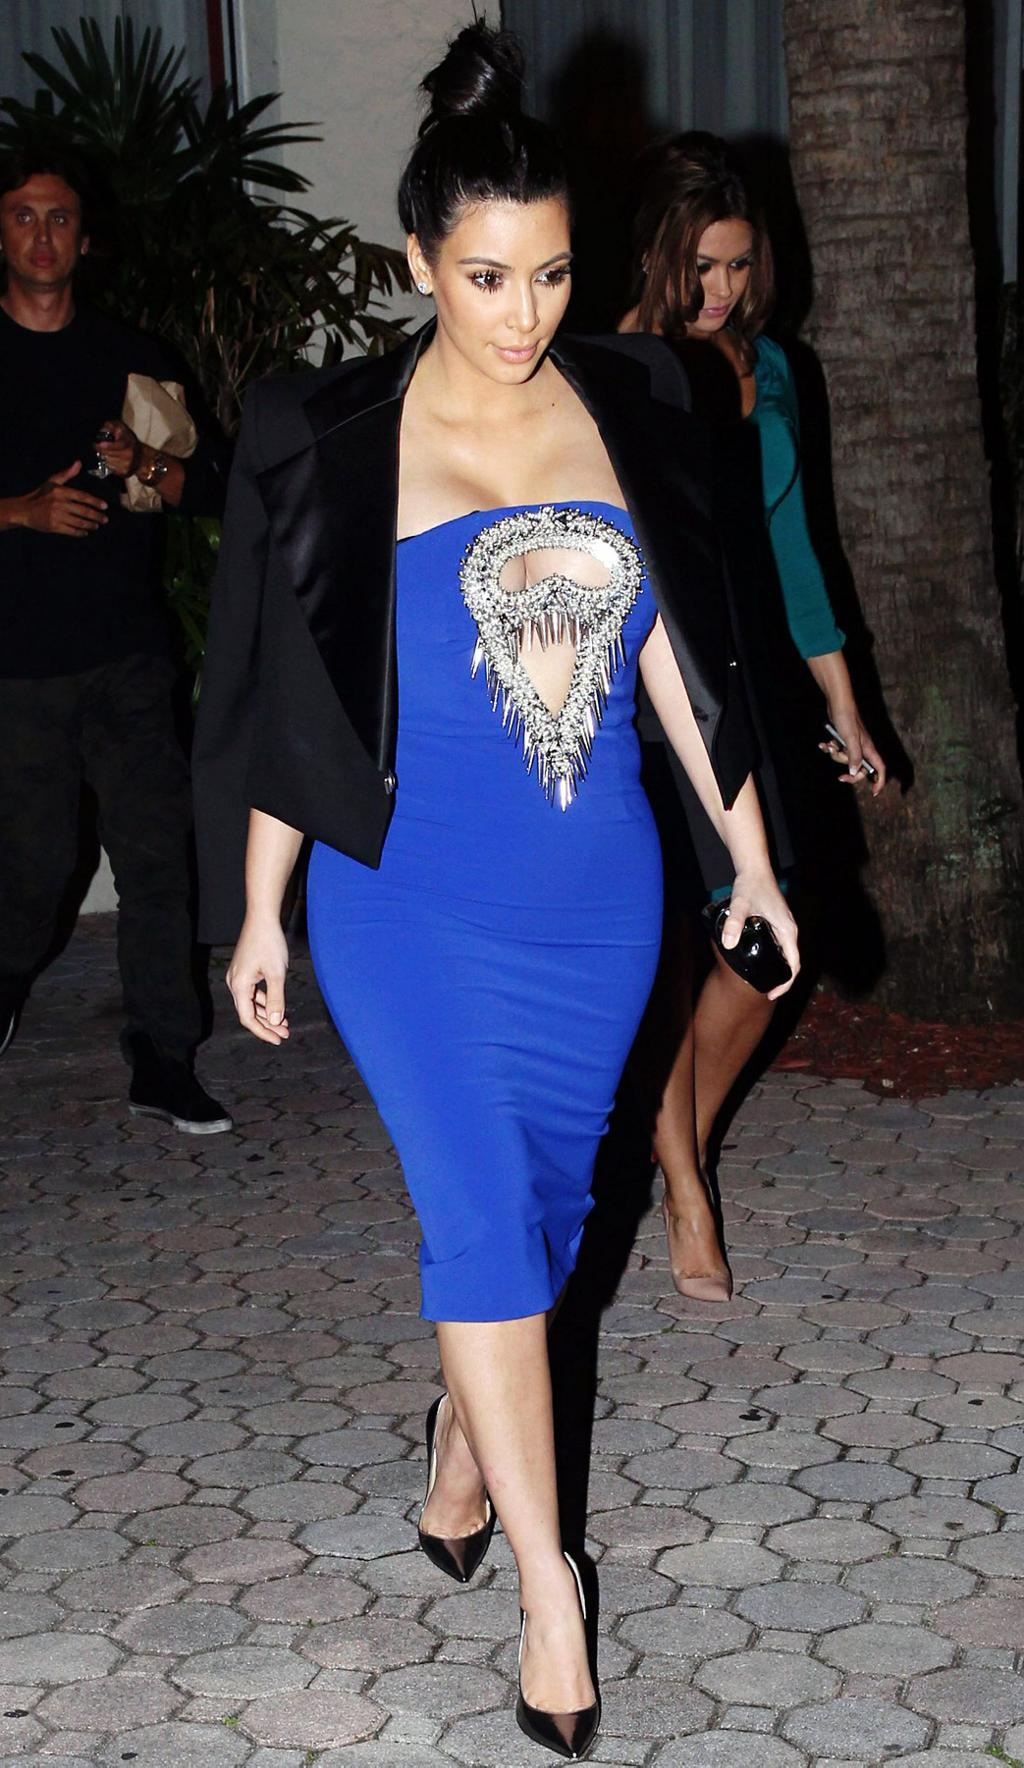face: (445, 197, 569, 383), (662, 207, 755, 338), (7, 179, 86, 293)
